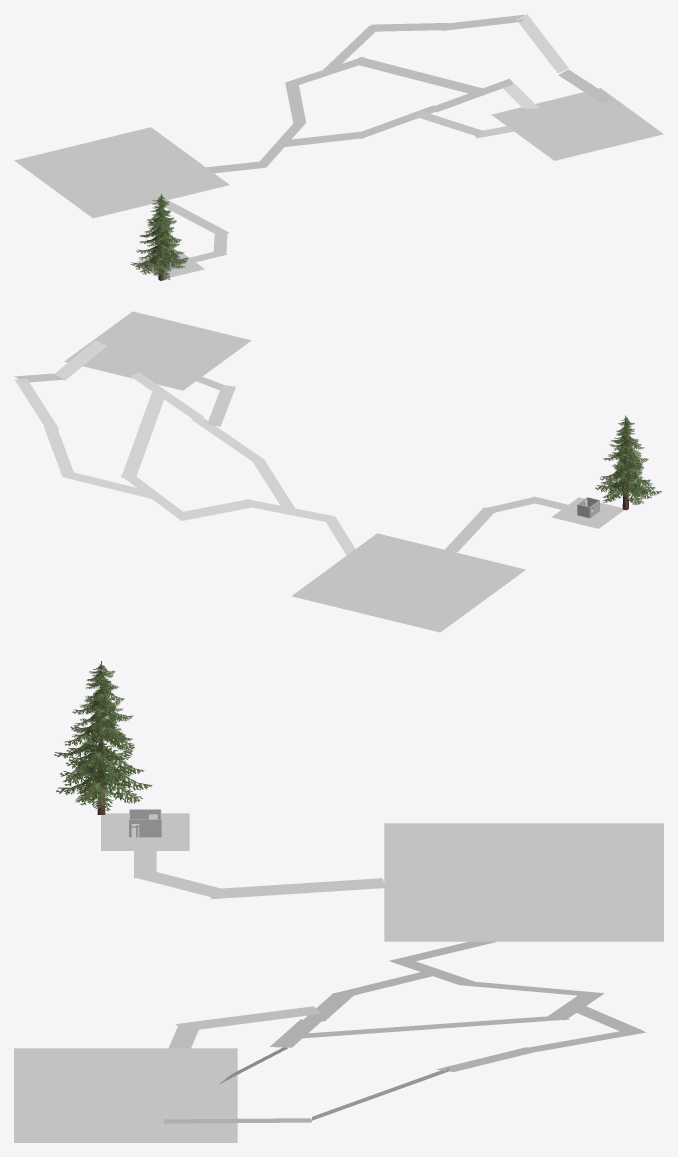
The model's file is Layout4.glb.
3 renders of one model, top to bottom at view 1: azimuth 30°, elevation 25°; view 2: azimuth 150°, elevation 25°; view 3: azimuth 270°, elevation 25°, orthographic. The views are drawn at different scales.
Parts seen in each view (by area): view 1: Plane.005, Plane.006, Cube.001, Plane.021, Plane.016, Plane.020, Plane.022, Plane.015, Plane.010, Plane.004, Plane.007, Plane.009 (+8 smaller); view 2: Plane.005, Plane.006, Cube.001, Plane.001, Plane.015, Plane.010, Plane.016, Plane.004, Plane.020, Plane.022, Plane.014, Plane.011 (+7 smaller); view 3: Plane.005, Plane.006, Cube.001, Plane.001, Plane.004, Plane.013, Plane.003, Plane.002, Plane.022, Plane.014, Plane.007, Plane.020.
Boxes of the visible parts, x1,y1,x2,y2 form: Plane.005: (14, 127, 229, 218); Plane.006: (491, 88, 663, 160); Cube.001: (131, 193, 188, 280); Plane.021: (516, 14, 568, 73); Plane.016: (433, 78, 513, 112); Plane.020: (442, 14, 523, 30); Plane.022: (558, 69, 612, 103); Plane.015: (323, 26, 378, 72); Plane.010: (285, 80, 305, 125); Plane.004: (157, 200, 229, 235); Plane.007: (255, 121, 306, 167); Plane.009: (283, 131, 360, 146); Plane.005: (291, 533, 525, 632); Plane.006: (64, 311, 251, 390); Cube.001: (595, 415, 661, 510); Plane.001: (551, 497, 623, 528); Plane.015: (65, 470, 154, 499); Plane.010: (175, 499, 255, 520); Plane.016: (130, 372, 203, 420); Plane.004: (444, 507, 496, 552); Plane.020: (14, 379, 59, 429); Plane.022: (54, 340, 106, 380); Plane.014: (121, 434, 150, 480); Plane.011: (192, 417, 265, 463); Plane.005: (384, 823, 663, 941); Plane.006: (14, 1048, 237, 1142); Cube.001: (54, 661, 151, 814); Plane.001: (101, 813, 189, 850); Plane.004: (209, 878, 384, 899); Plane.013: (176, 1006, 321, 1031); Plane.003: (136, 870, 223, 896); Plane.002: (134, 840, 156, 878); Plane.022: (163, 1118, 311, 1123); Plane.014: (426, 1015, 569, 1028); Plane.007: (389, 959, 479, 985); Plane.020: (436, 1047, 543, 1071).
Size of the model in its own units: 134 by 23.43 by 83.8.
3 materials, 1 textured.
